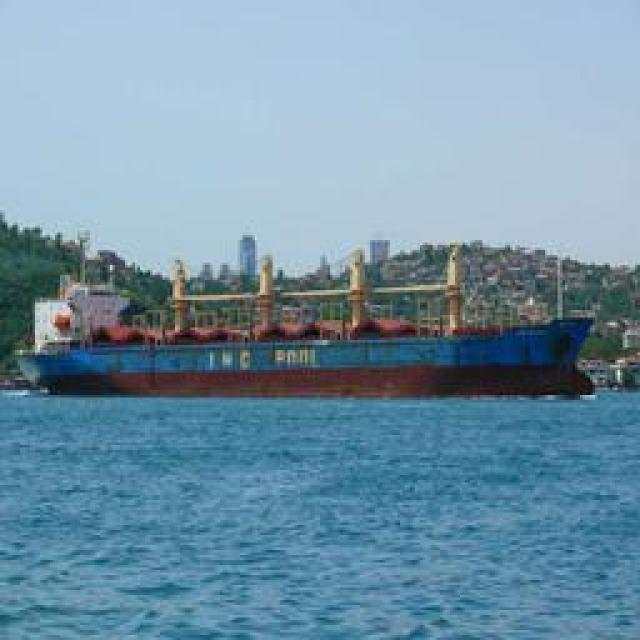CIV_Ship: (24, 292, 588, 400)
